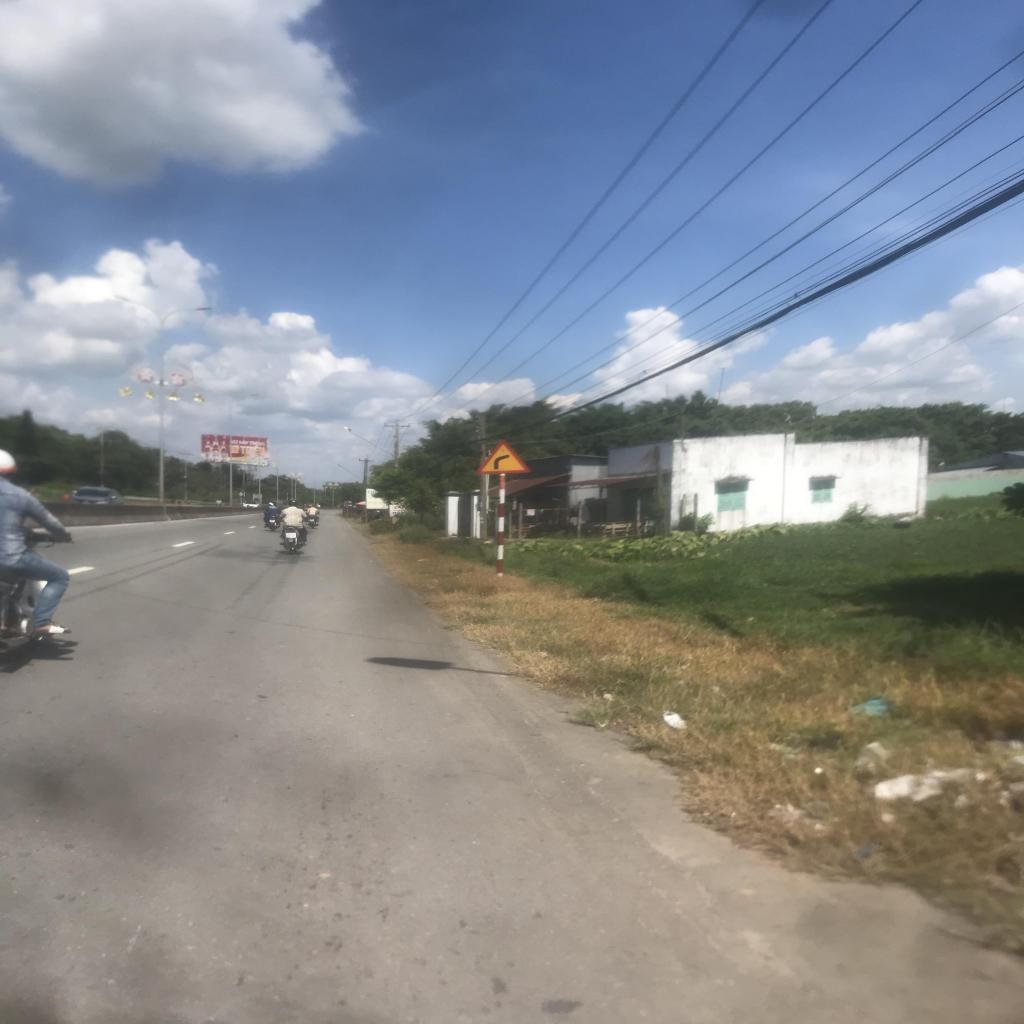cho_ngoat_nguy_hiem_ben_phai: (475, 436, 533, 474)
